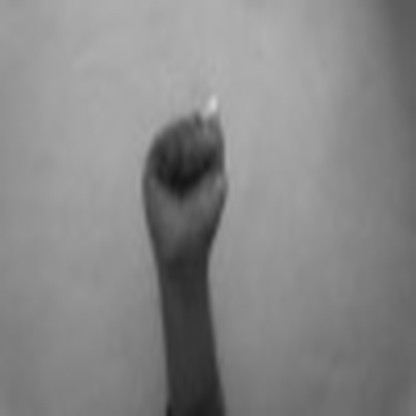a: (131, 86, 242, 250)
